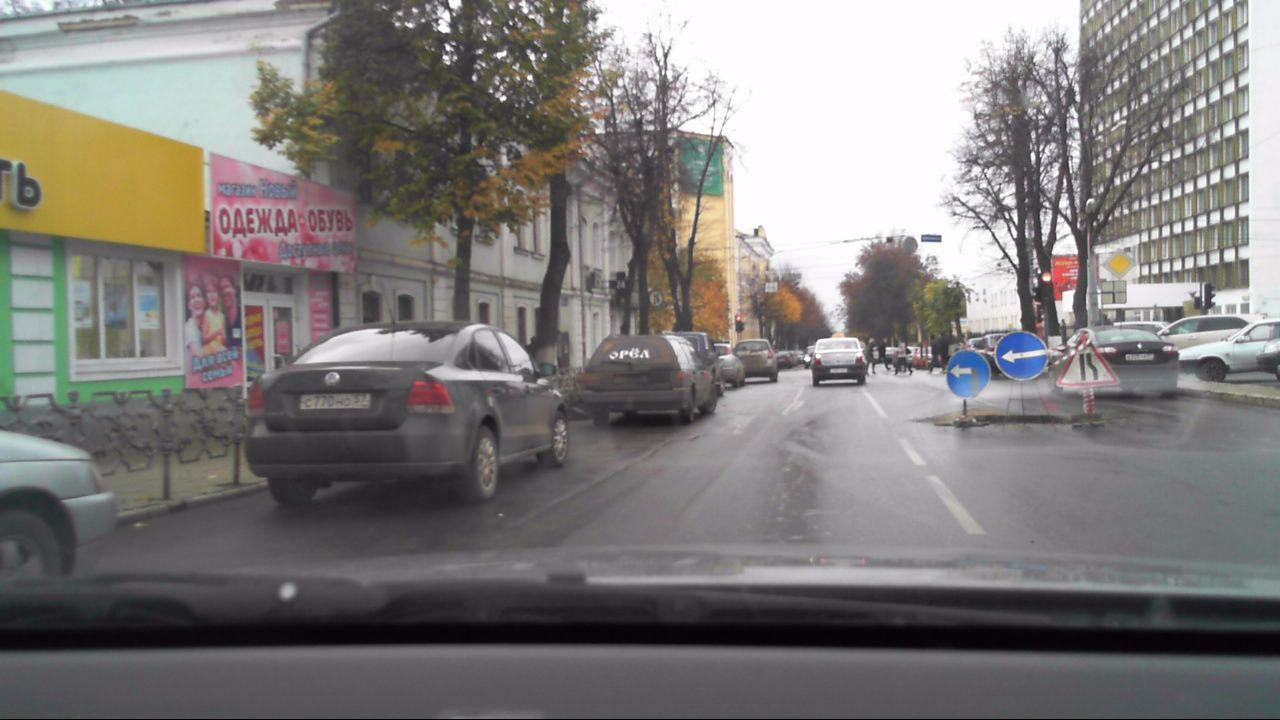1_20_2: (1059, 336, 1120, 389)
2_1: (1104, 248, 1135, 279)
4_2_2: (995, 329, 1050, 379), (943, 344, 990, 397)
5_7_2: (920, 232, 945, 244)
8_13: (1101, 280, 1127, 307)
